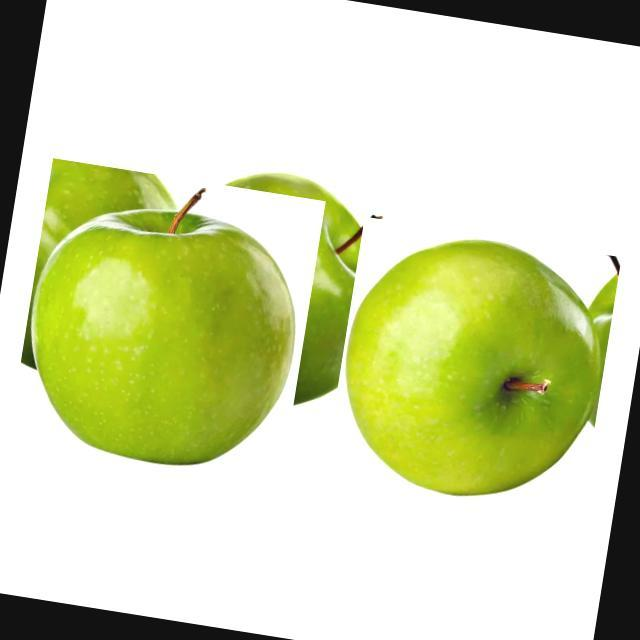Green Apple: (24, 160, 618, 497), (226, 171, 364, 275), (586, 254, 620, 427)
Red Apple: (30, 188, 296, 466), (346, 239, 618, 497)
